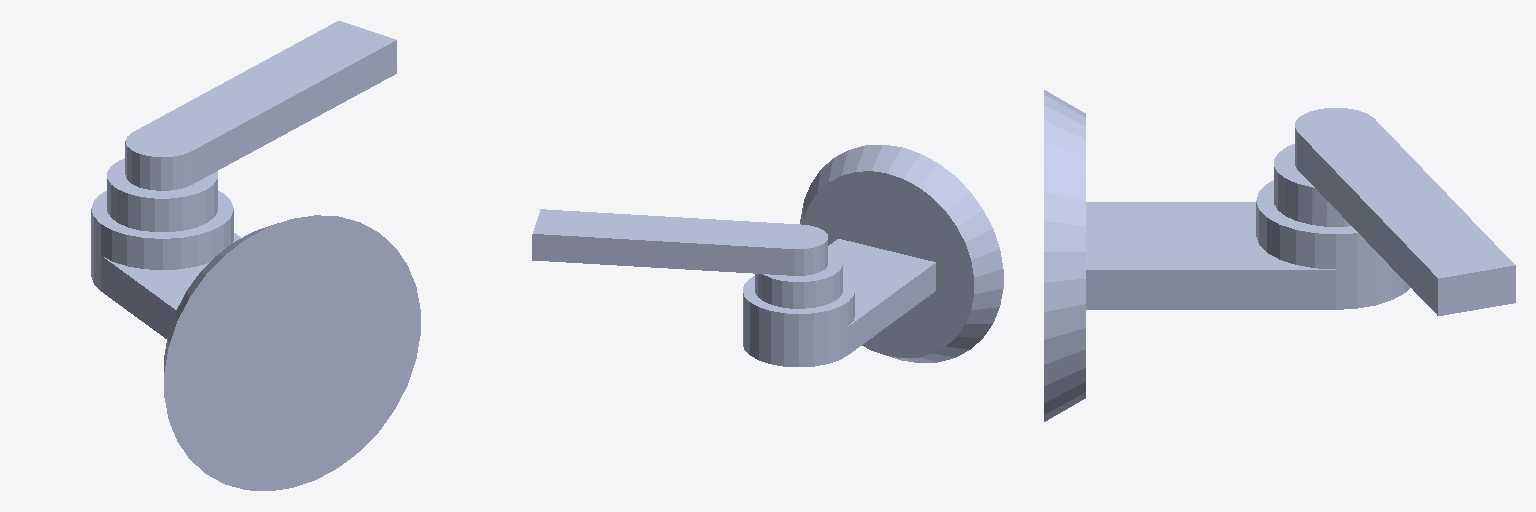
The robot description file, URDF, robot "arm":
<?xml version="1.0" encoding="utf-8"?>
<!-- This URDF was automatically created by SolidWorks to URDF Exporter! Originally created by Stephen Brawner (brawner@gmail.com) 
     Commit Version: 1.6.0-4-g7f85cfe  Build Version: 1.6.7995.38578
     For more information, please see http://wiki.ros.org/sw_urdf_exporter -->
<robot
  name="arm">
  <link
    name="base_link">
    <inertial>
      <origin
        xyz="0 0.0185579636708725 0.00126331265042197"
        rpy="0 0 0" />
      <mass
        value="0.0848950850718847" />
      <inertia
        ixx="8.67106215725614E-05"
        ixy="9.99707842502009E-22"
        ixz="3.39962227816561E-22"
        iyy="3.60400223001119E-05"
        iyz="-4.44461840183128E-06"
        izz="8.99713236443961E-05" />
    </inertial>
    <visual>
      <origin
        xyz="0 0 0"
        rpy="0 0 0" />
      <geometry>
        <mesh
          filename="package://arm/meshes/base_link.STL" />
      </geometry>
      <material
        name="">
        <color
          rgba="0.792156862745098 0.819607843137255 0.933333333333333 1" />
      </material>
    </visual>
    <collision>
      <origin
        xyz="0 0 0"
        rpy="0 0 0" />
      <geometry>
        <mesh
          filename="package://arm/meshes/base_link.STL" />
      </geometry>
    </collision>
  </link>
  <link
    name="Link1">
    <inertial>
      <origin
        xyz="0.0279456537306525 0.0113320854937746 -0.0076534339479159"
        rpy="0 0 0" />
      <mass
        value="0.026639379797372" />
      <inertia
        ixx="5.13549354436926E-06"
        ixy="-8.27937464299174E-06"
        ixz="-1.97536186034964E-06"
        iyy="2.2195642590867E-05"
        iyz="-8.01017922084622E-07"
        izz="2.58485501647214E-05" />
    </inertial>
    <visual>
      <origin
        xyz="0 0 0"
        rpy="0 0 0" />
      <geometry>
        <mesh
          filename="package://arm/meshes/Link1.STL" />
      </geometry>
      <material
        name="">
        <color
          rgba="0.792156862745098 0.819607843137255 0.933333333333333 1" />
      </material>
    </visual>
    <collision>
      <origin
        xyz="0 0 0"
        rpy="0 0 0" />
      <geometry>
        <mesh
          filename="package://arm/meshes/Link1.STL" />
      </geometry>
    </collision>
  </link>
  <joint
    name="joint1"
    type="continuous">
    <origin
      xyz="0 0.0600000000000002 0.0346458322614542"
      rpy="0 0 0" />
    <parent
      link="base_link" />
    <child
      link="Link1" />
    <axis
      xyz="0 0 1" />
  </joint>
</robot>

--- Render facts (derived) ---
3 views of the same robot in one strip: view 1: azimuth 30°, elevation 25°; view 2: azimuth 150°, elevation 25°; view 3: azimuth 270°, elevation 25° (orthographic).
Model arm with 2 links and 1 joints (1 continuous), rooted at base_link, posed all joints at 0.
Visible links, largest first — view 1: base_link, Link1; view 2: base_link, Link1; view 3: base_link, Link1.
Link boxes in pixels (box(x1,y1,x2,y2)): base_link: box(91, 191, 420, 490); Link1: box(107, 21, 396, 231); base_link: box(743, 145, 1003, 366); Link1: box(532, 209, 842, 308); base_link: box(1044, 90, 1410, 421); Link1: box(1274, 108, 1515, 315).
Bounding box of the posed robot: 0.127 × 0.1131 × 0.08 m (x, y, z).
Meshes: 2 distinct files referenced, 2 mesh visuals loaded (2 binary STL).
